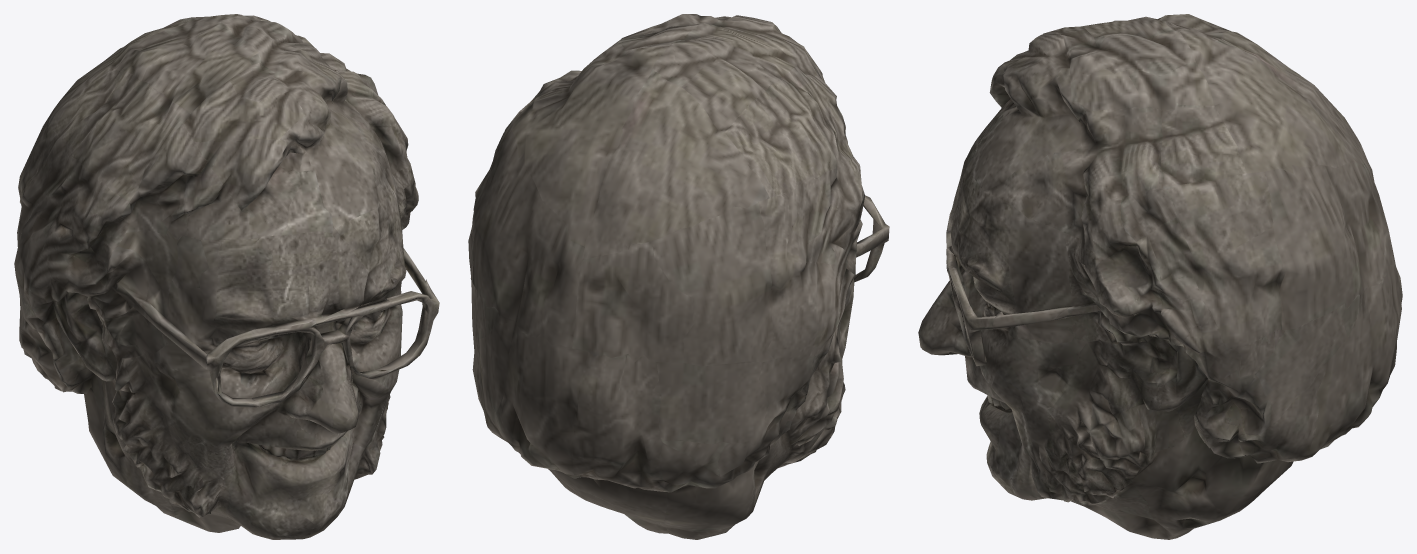
Rendered from Pillinger-low.glb.
3 renders of one model, left to right at view 1: azimuth 30°, elevation 25°; view 2: azimuth 150°, elevation 25°; view 3: azimuth 270°, elevation 25°, orthographic.
Size of the model in its own units: 1.43 by 1.9 by 1.68.
Materials: 1 (1 with a texture image).
